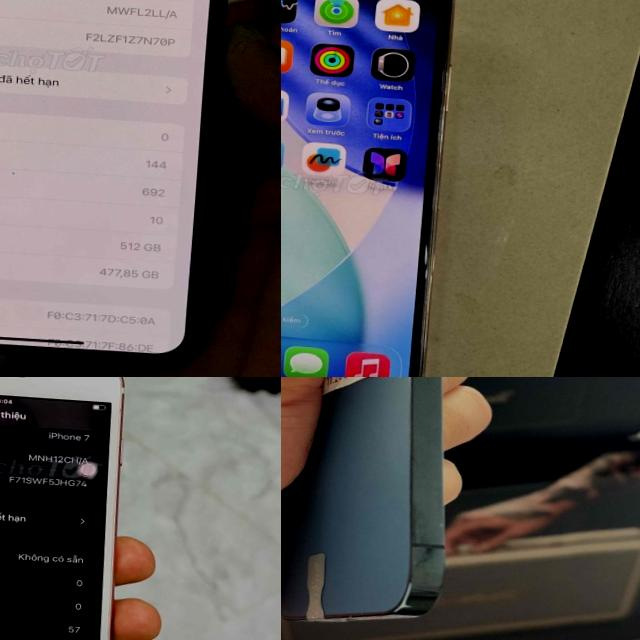gen_11: (0, 0, 247, 377), (281, 0, 465, 377)
gen_12_13: (281, 377, 481, 634)
gen_7_8: (0, 377, 143, 640)
